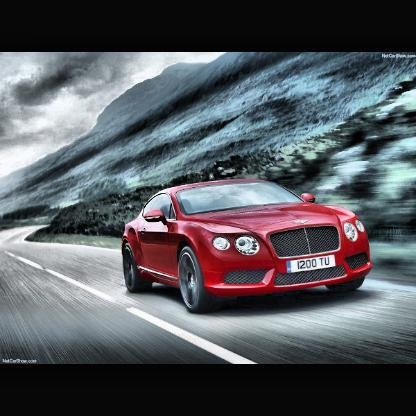Bentley Continental GT Coupe 2007: (119, 177, 377, 317)
